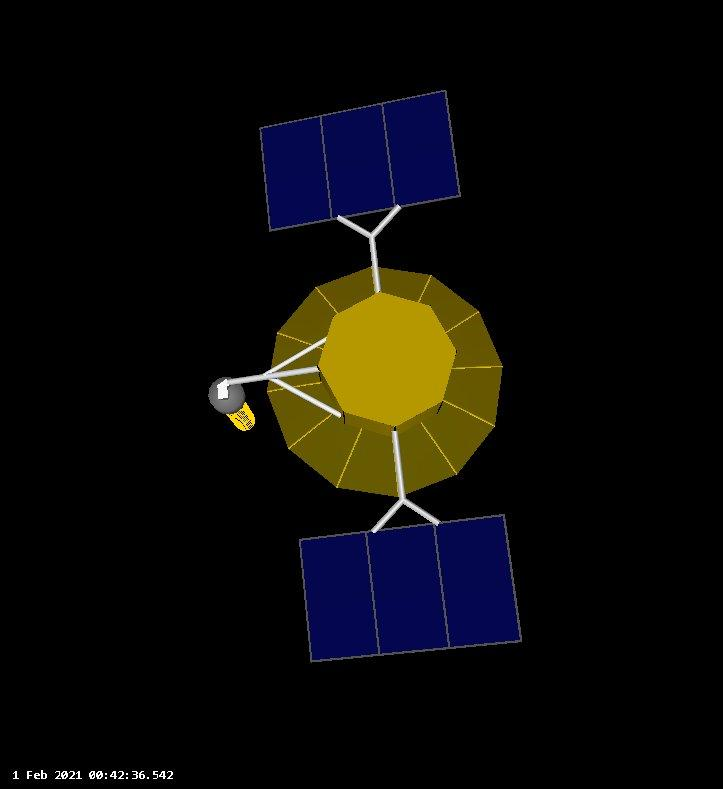antenna: (261, 262, 505, 498), (205, 375, 258, 435)
body: (315, 288, 459, 437)
solar: (297, 511, 524, 668), (256, 86, 467, 235)
